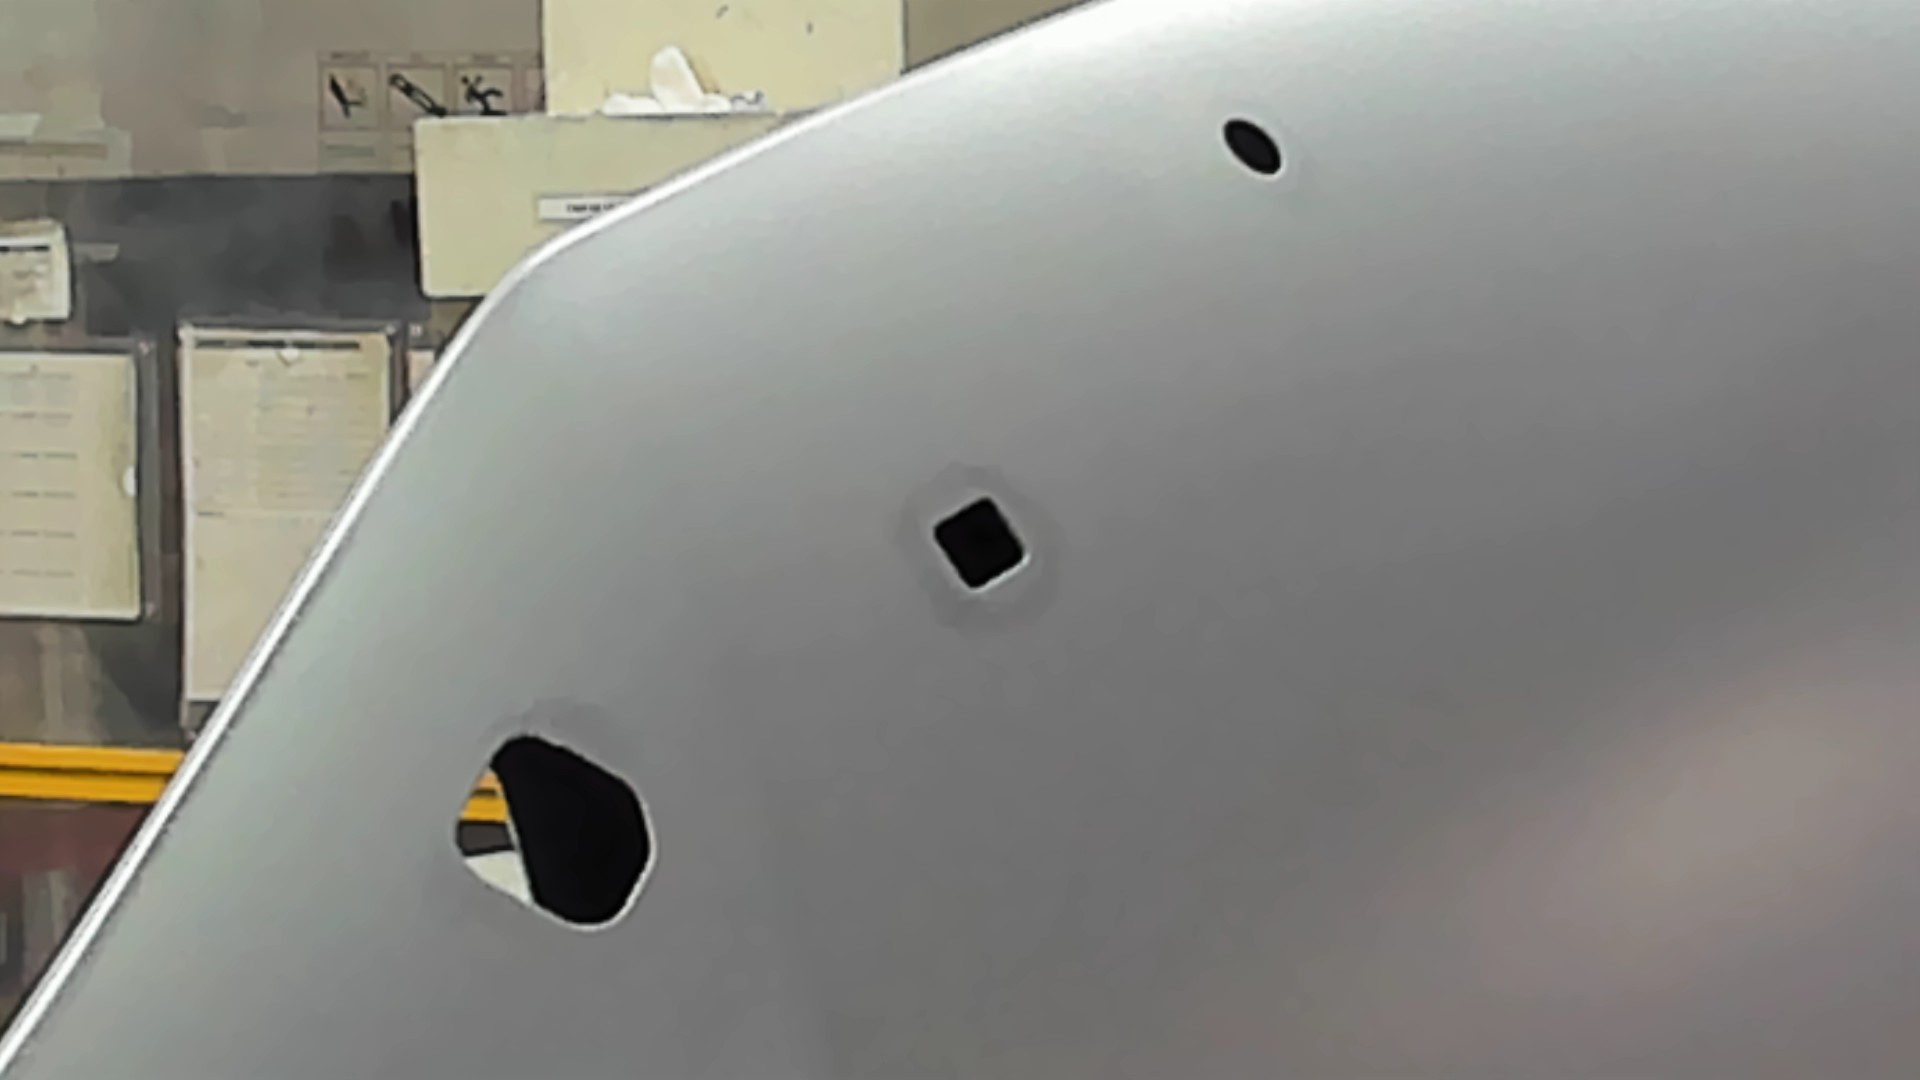chico: (1216, 113, 1292, 183)
grande: (447, 727, 663, 942)
mediano: (920, 487, 1036, 599)
